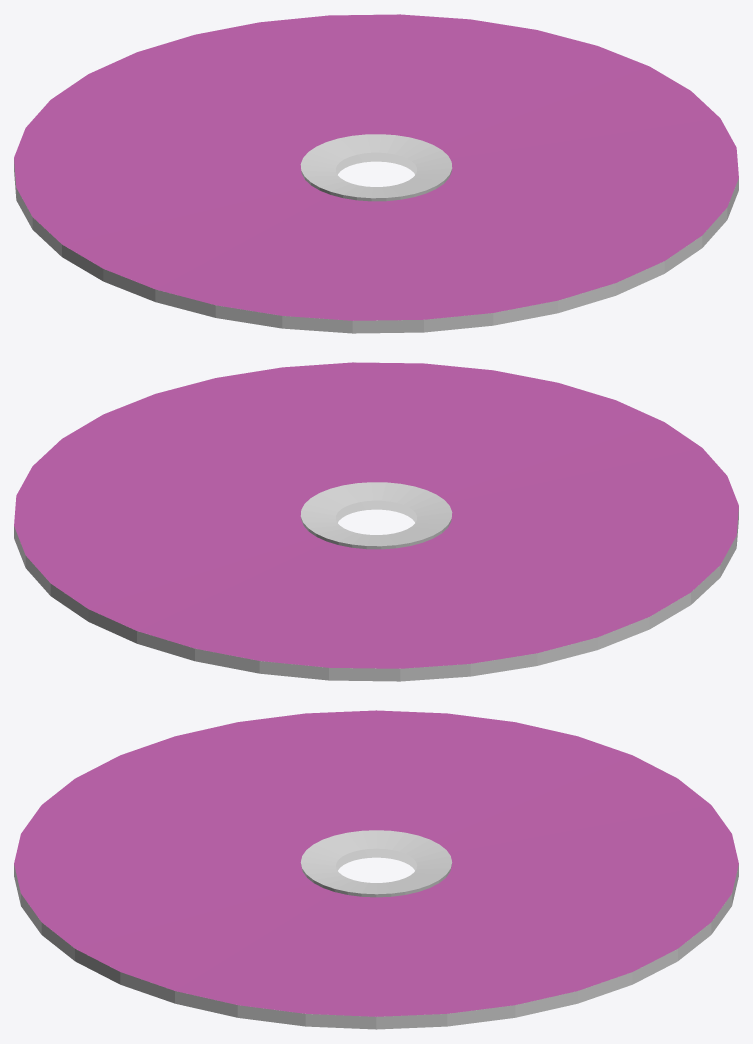
The picture shows the model from 3 angles, top to bottom: view 1: azimuth 30°, elevation 25°; view 2: azimuth 150°, elevation 25°; view 3: azimuth 270°, elevation 25°; orthographic projection.
Parts seen in each view (by area): view 1: Cylinder; view 2: Cylinder; view 3: Cylinder.
Boxes of the visible parts, left/top/right/bottom form: Cylinder: left=14, top=14, right=738, bottom=333; Cylinder: left=14, top=362, right=738, bottom=681; Cylinder: left=14, top=710, right=738, bottom=1029.
Size of the model in its own units: 200 by 4.82 by 200.
